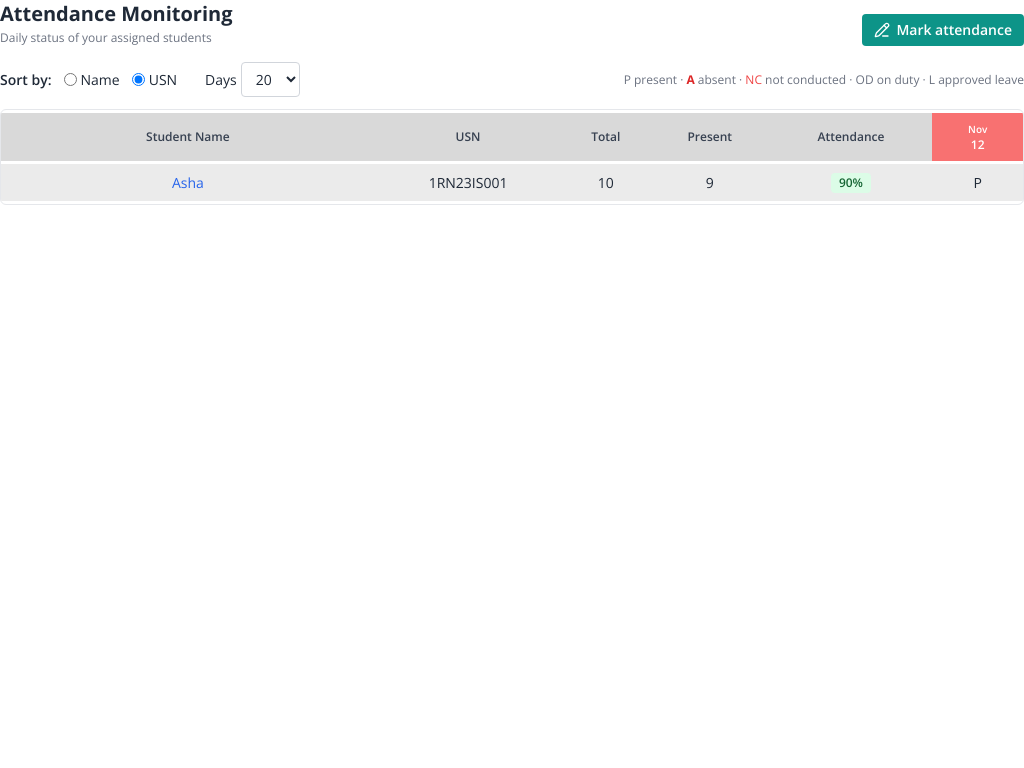
Scenario: mentor attendance editor › sends only the changed students for the chosen date
Click the button "Mark attendance": (943, 30) [862,14,1023,46]
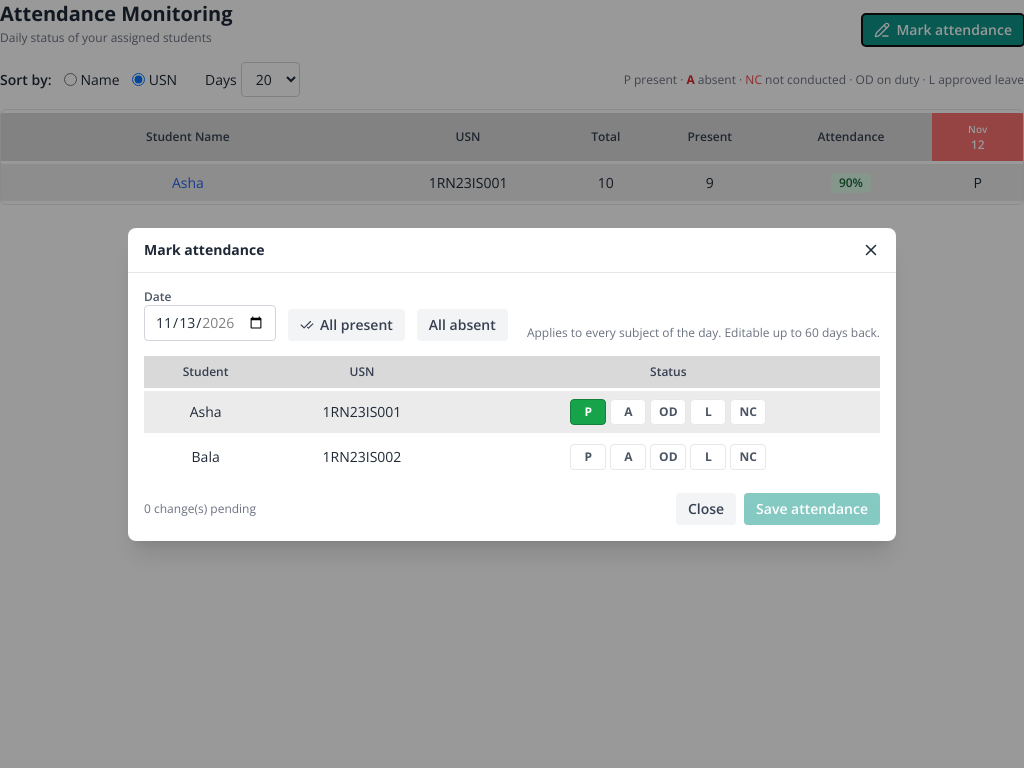
Now the text "Bala" is shown, box [144,436,267,478]
Now the button "Save attendance" is disabled, box [744,492,880,524]
Click the 1st button "A": (628, 412) [610,398,646,424]
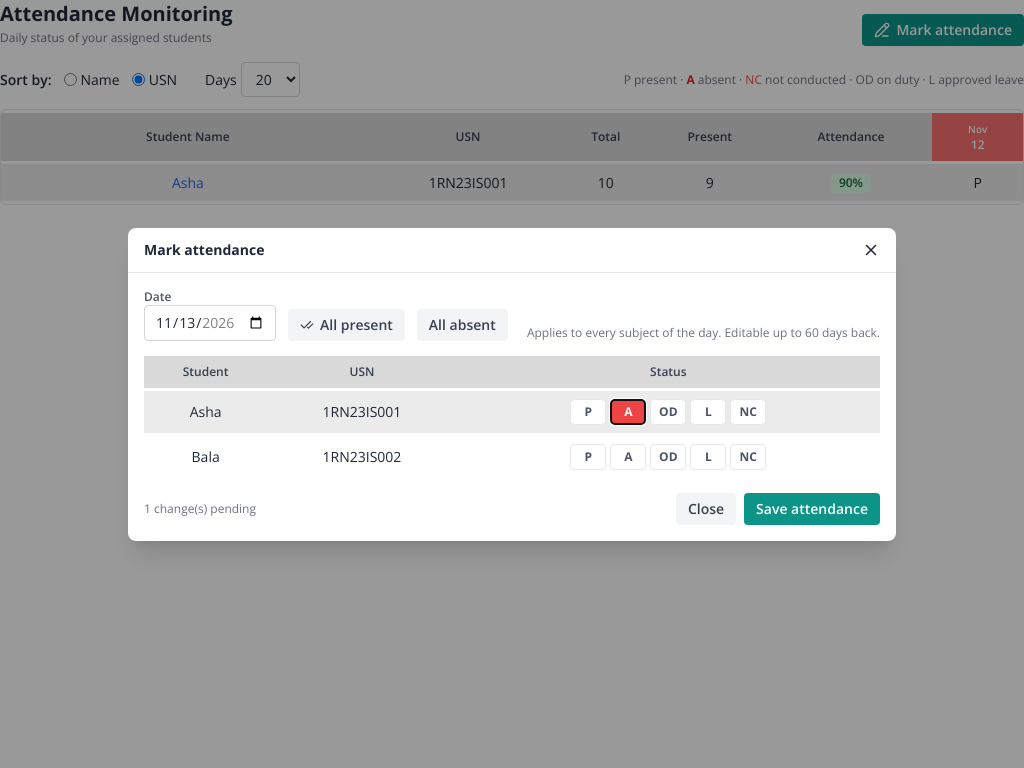
Click the button "P" in the row of "Bala": (588, 456) [570,444,606,470]
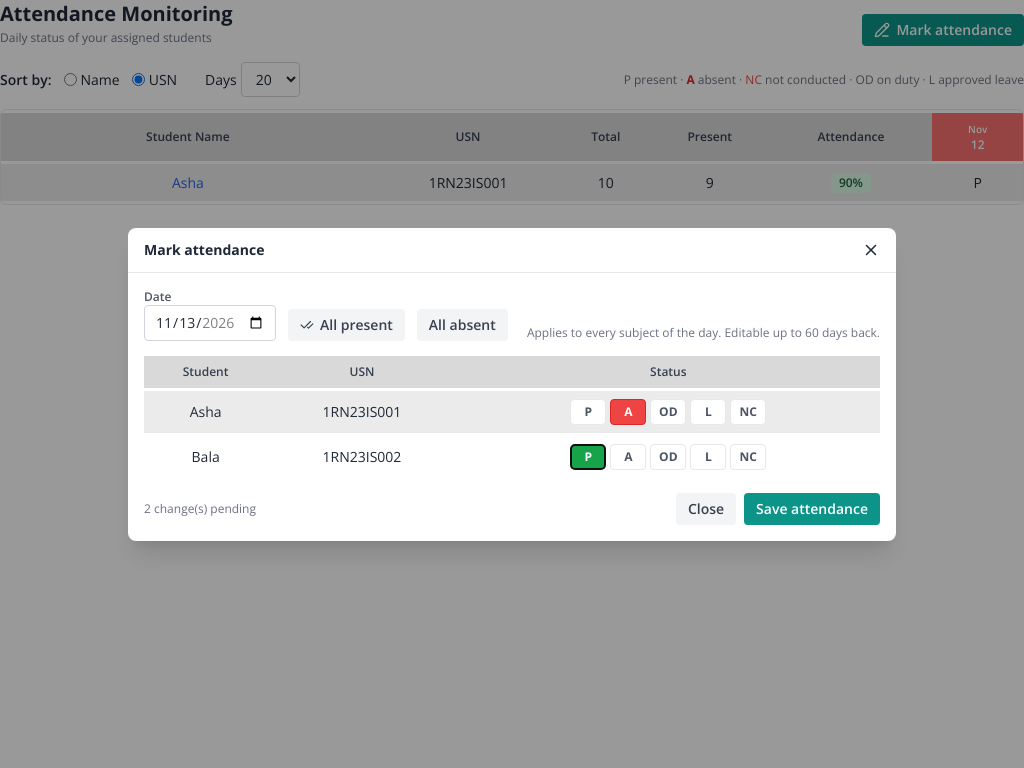
Click the button "Save attendance": (812, 508) [744,492,880,524]
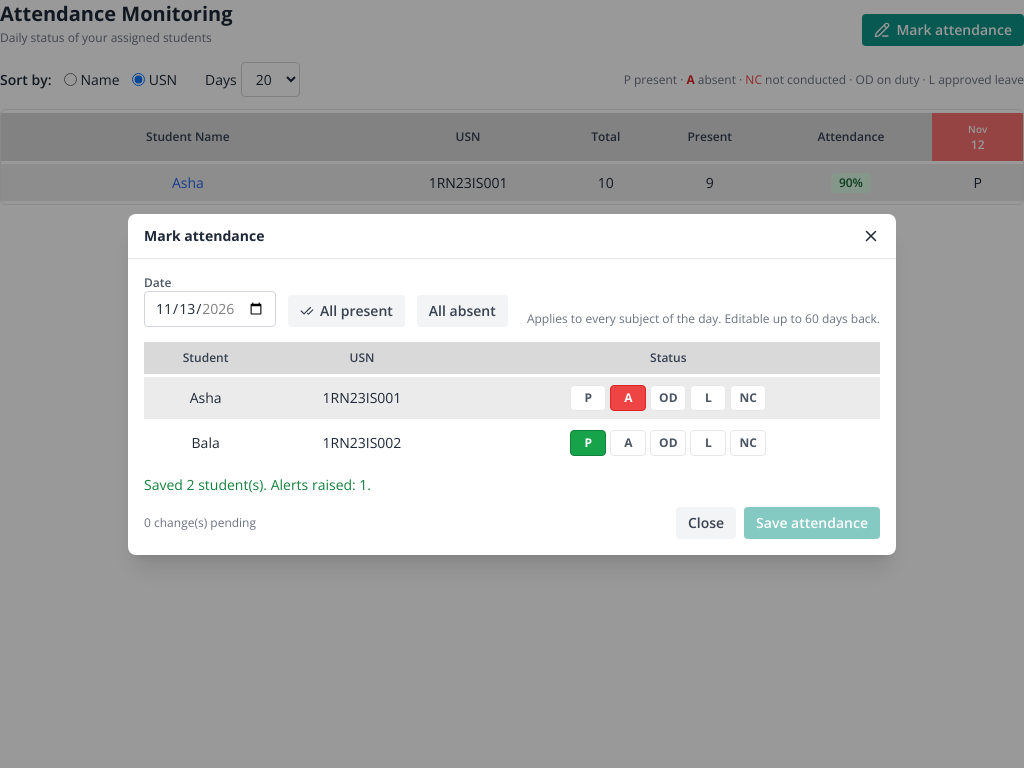
Now the text "Saved 2 student(s). Alerts raised: 1." is shown, box [144,474,371,494]
